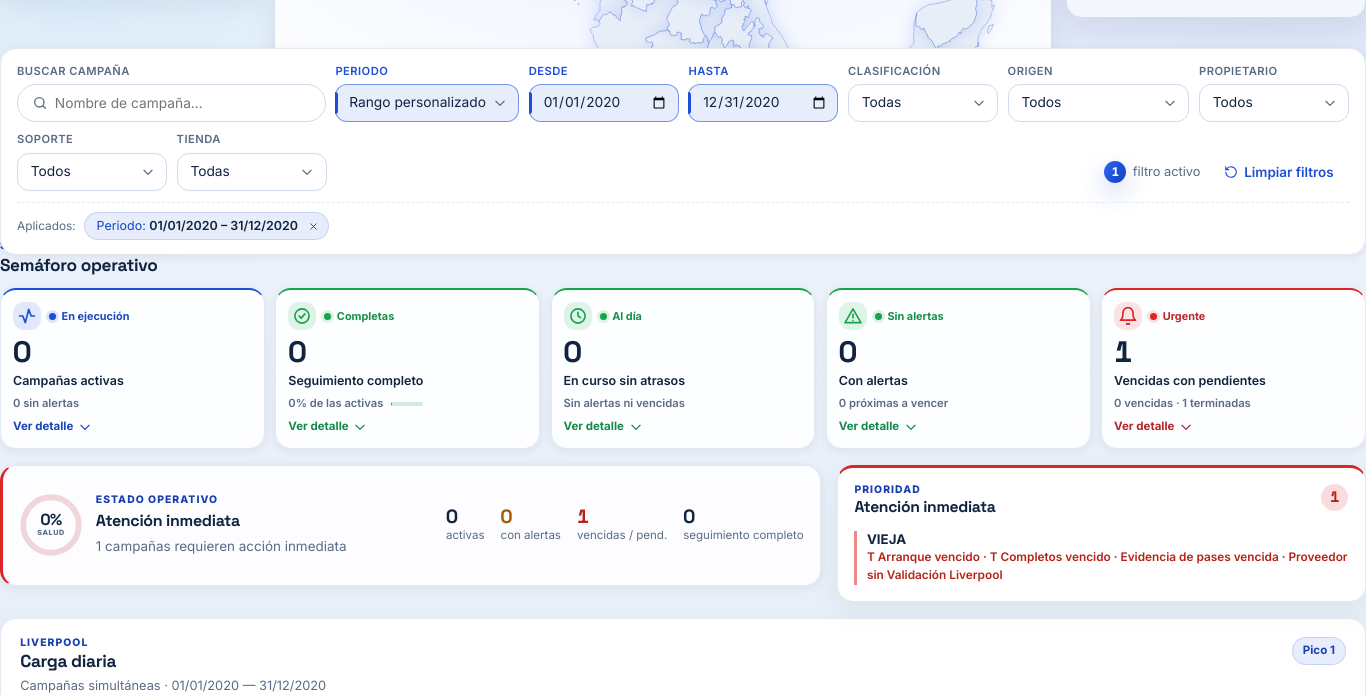
Scenario: DashboardPage — filtros globales y detalle de KPI › al pulsar una tarjeta se abre su detalle flotante con el conteo y enlace a Seguimiento
(page scrolled)
Step 1. Click the button with aria-label "Vencidas con pendientes: 1. Urgente. Ver detalle" → click(1184, 316), box [1101,288,1365,449]
(page scrolled)
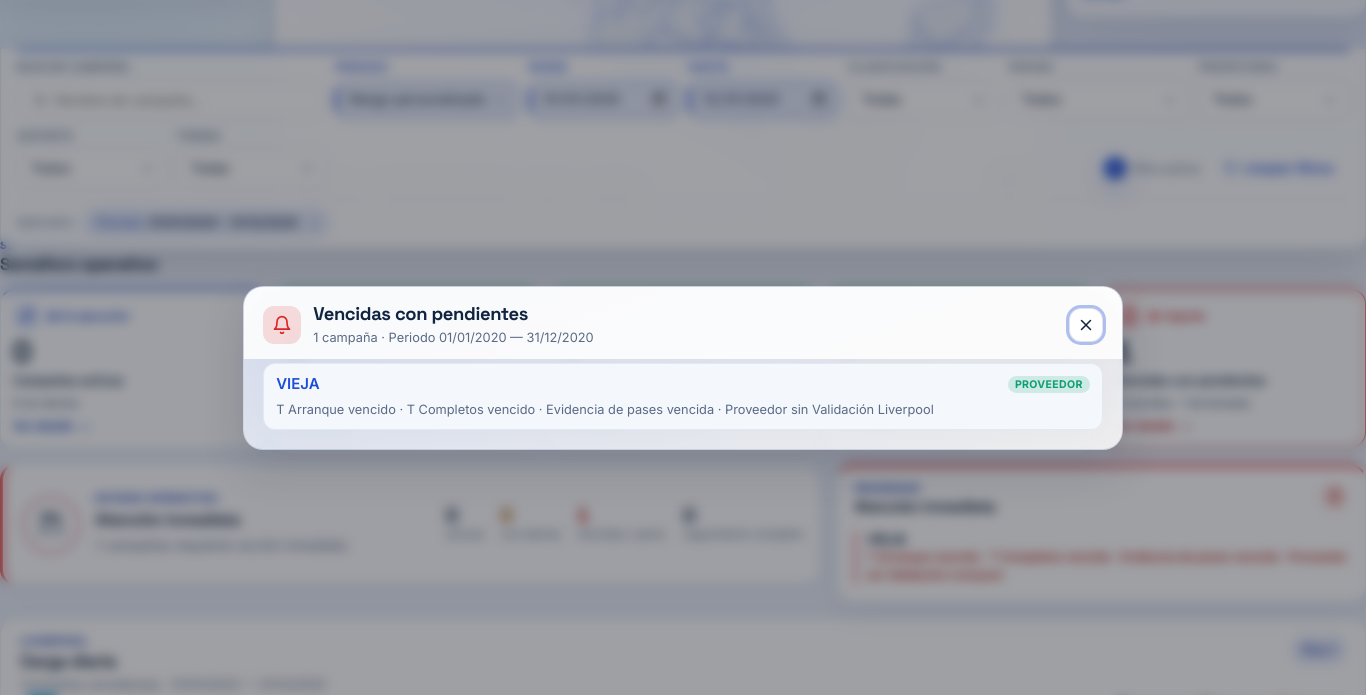
expect the text "1 campaña · Periodo 01/01/2020 — 31/12/2020" is shown: met, box [313,330,594,345]
Step 2. Press Escape
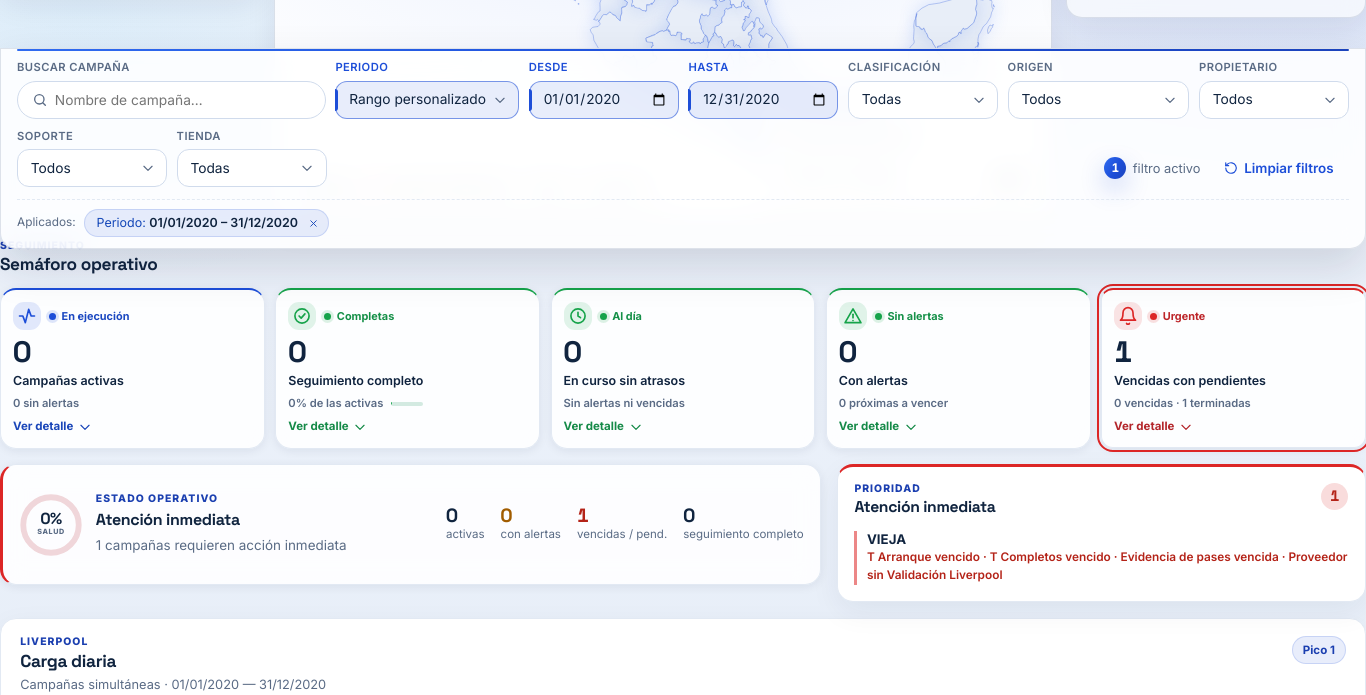
expect the dialog is gone: met
